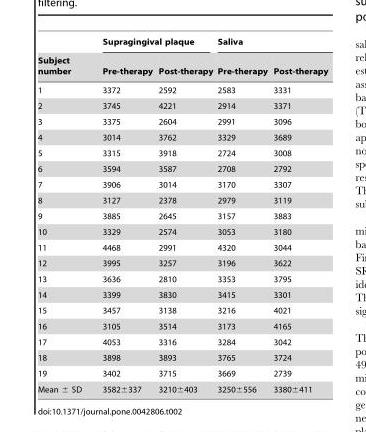table: (37, 37, 327, 393)
table column: (91, 37, 154, 393), (154, 37, 214, 393), (269, 37, 327, 393), (214, 37, 269, 393), (37, 37, 91, 393)
table column header: (37, 37, 327, 80)
table row: (37, 50, 327, 80), (37, 80, 327, 97), (37, 97, 327, 113), (37, 113, 327, 129), (37, 129, 327, 145), (37, 160, 327, 176), (37, 176, 327, 192), (37, 192, 327, 208), (37, 223, 327, 239), (37, 239, 327, 255), (37, 255, 327, 271), (37, 286, 327, 302), (37, 302, 327, 318), (37, 318, 327, 334), (37, 349, 327, 365), (37, 145, 327, 160), (37, 208, 327, 223), (37, 271, 327, 286), (37, 334, 327, 349), (37, 365, 327, 380), (37, 37, 327, 50), (37, 380, 327, 393)
table spanning cell: (37, 37, 91, 80), (91, 37, 214, 50), (214, 37, 327, 50)
